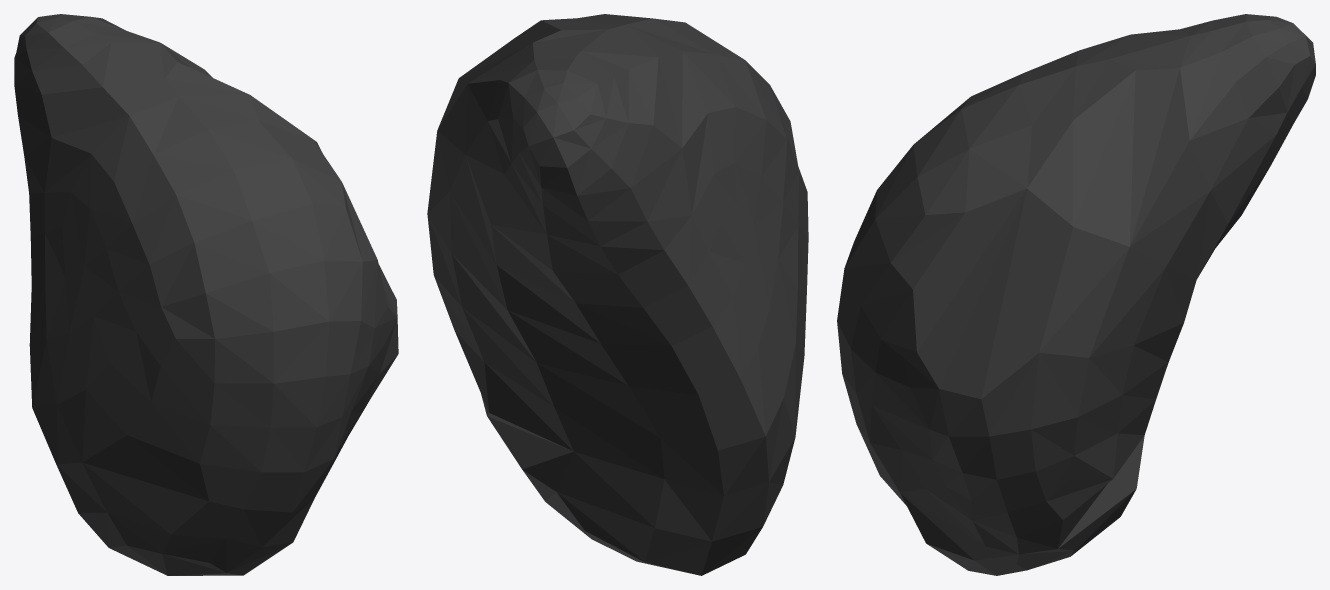
Rendered from RFL_humerus1.glb.
3 views of the same model, side by side, from view 1: azimuth 30°, elevation 25°; view 2: azimuth 150°, elevation 25°; view 3: azimuth 270°, elevation 25° (orthographic). The views are drawn at different scales.
Visible parts, largest first — view 1: RFL_humerus1; view 2: RFL_humerus1; view 3: RFL_humerus1.
Boxes of the visible parts, left/top/right/bottom form: RFL_humerus1: left=14, top=14, right=398, bottom=575; RFL_humerus1: left=427, top=14, right=808, bottom=575; RFL_humerus1: left=837, top=14, right=1315, bottom=575.
Bounding box in the file's own units: 7.65 × 11.48 × 9.37.
Materials: 1 (1 with a texture image).
